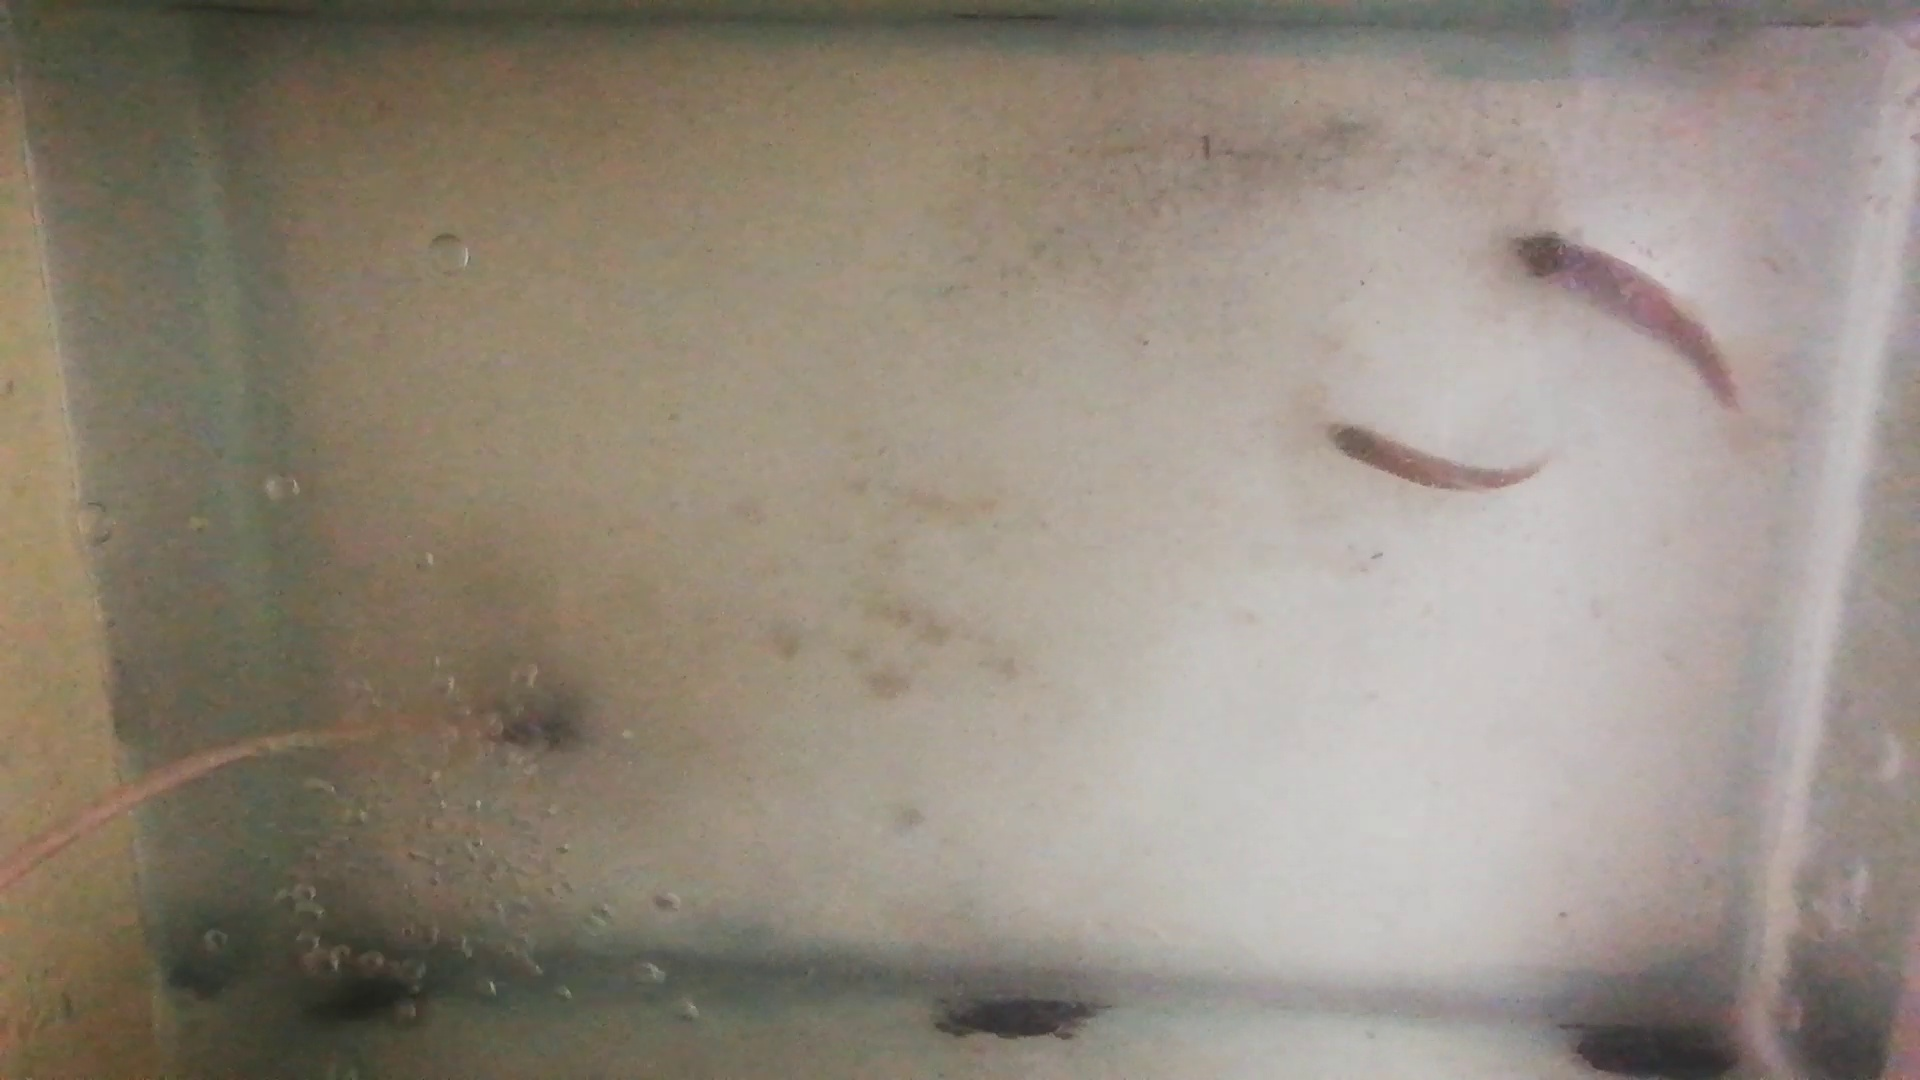fish: (1515, 233, 1738, 405), (1321, 421, 1545, 495)
